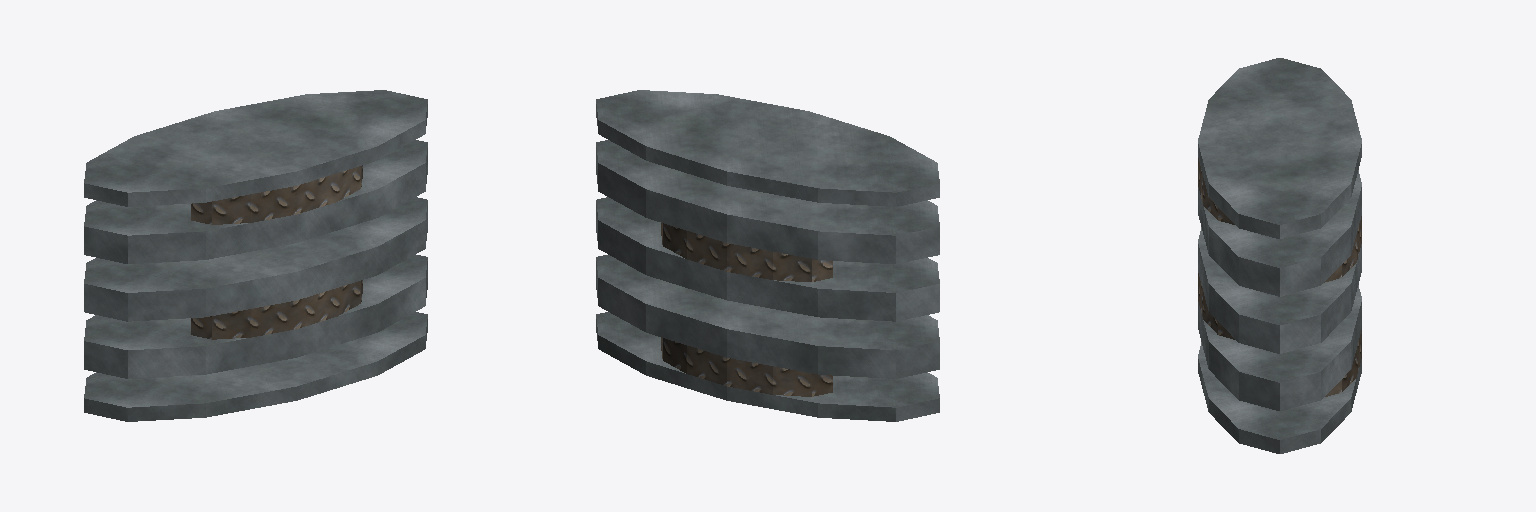
The picture shows the model from 3 angles: view 1: azimuth 30°, elevation 25°; view 2: azimuth 150°, elevation 25°; view 3: azimuth 270°, elevation 25°; orthographic projection.
Parts seen in each view (by area): view 1: mergedBlocks; view 2: mergedBlocks; view 3: mergedBlocks.
Boxes of the visible parts, box(x1,y1,x2,y2) form: mergedBlocks: box(84, 90, 427, 421); mergedBlocks: box(596, 90, 939, 421); mergedBlocks: box(1198, 58, 1361, 453).
Size of the model in its own units: 1.26 by 0.8 by 0.52.
2 materials, 2 textured.